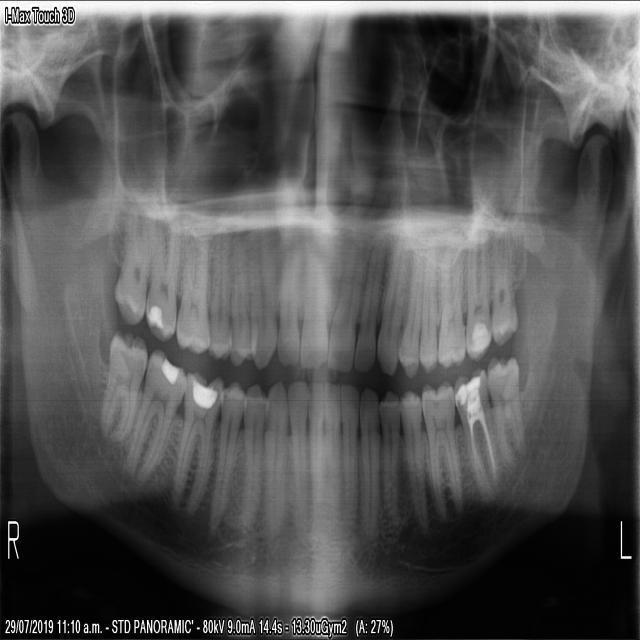LCD: (357, 379, 379, 545)
LCU: (374, 236, 409, 384)
LID: (338, 377, 359, 531), (321, 370, 340, 524)
LIU: (322, 238, 367, 379), (353, 236, 385, 378)
LMD: (451, 359, 501, 509), (418, 372, 463, 526), (483, 346, 528, 481)
LMU: (488, 219, 519, 352), (435, 239, 465, 374), (463, 221, 491, 365)
LPMD: (396, 380, 430, 541), (376, 380, 400, 528)
LPMU: (396, 243, 425, 383), (417, 249, 438, 379)
RCD: (261, 375, 288, 542)
RCU: (245, 218, 279, 375)
RID: (284, 370, 310, 540), (305, 372, 324, 527)
RIU: (297, 245, 328, 375), (273, 248, 300, 372)
RMD: (115, 340, 190, 496), (169, 365, 223, 522), (96, 323, 148, 450)
RMU: (172, 219, 212, 363), (143, 208, 182, 346), (112, 205, 155, 329)
RPMD: (203, 377, 246, 543), (235, 377, 269, 540)
RPMU: (225, 226, 259, 370), (203, 219, 233, 366)
